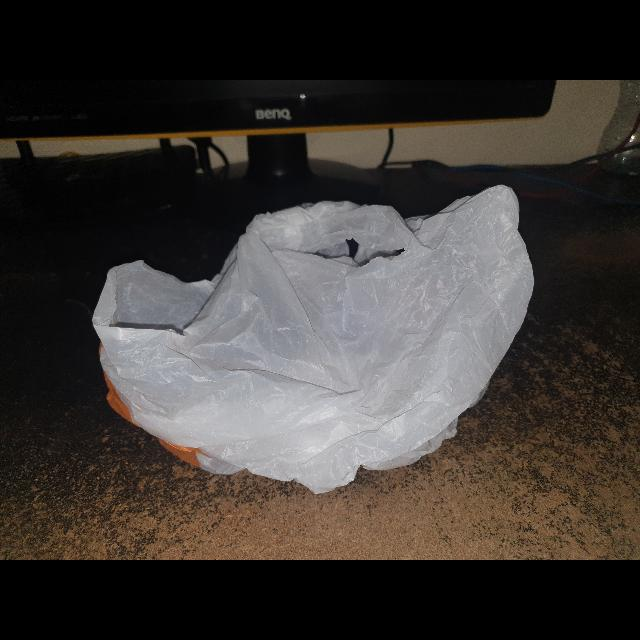plastic_bag: (87, 180, 543, 502)
